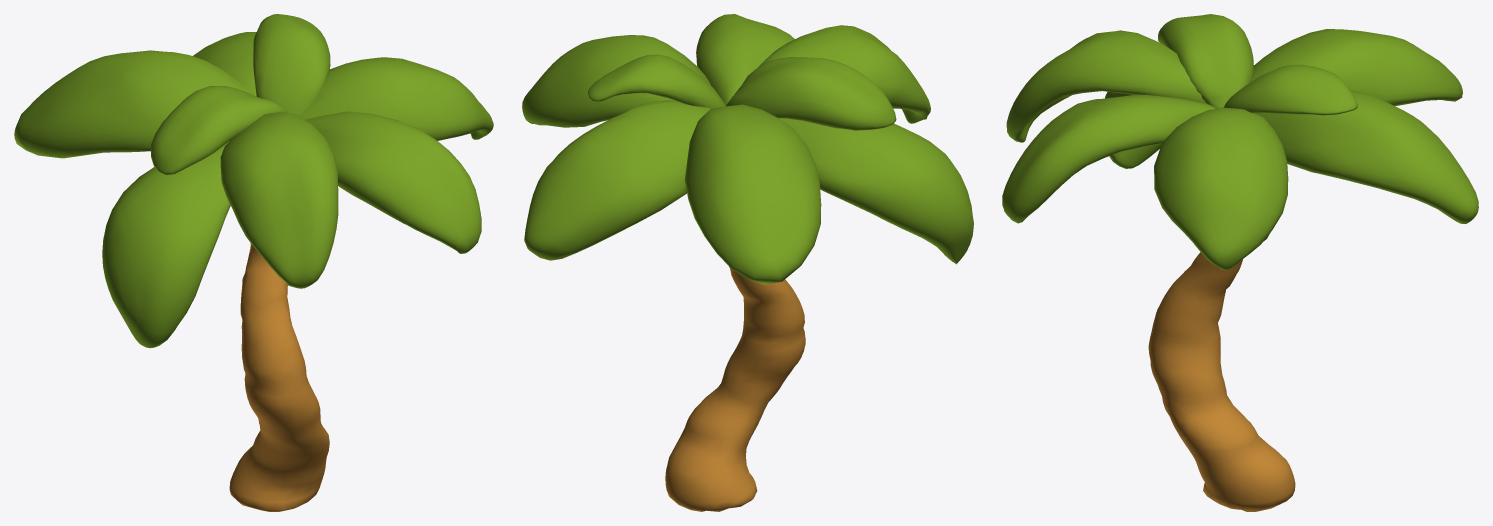
The model's file is Palma.fbx.
The picture shows the model from 3 angles, left to right: view 1: azimuth 30°, elevation 25°; view 2: azimuth 150°, elevation 25°; view 3: azimuth 270°, elevation 25°; orthographic projection.
Visible parts, largest first — view 1: Palma; view 2: Palma; view 3: Palma.
Part boxes in pixels (box(x1,y1,x2,y2)): Palma: box(14, 14, 493, 511); Palma: box(522, 14, 973, 511); Palma: box(1002, 14, 1478, 511).
Bounding box in the file's own units: 703 × 734 × 711.
